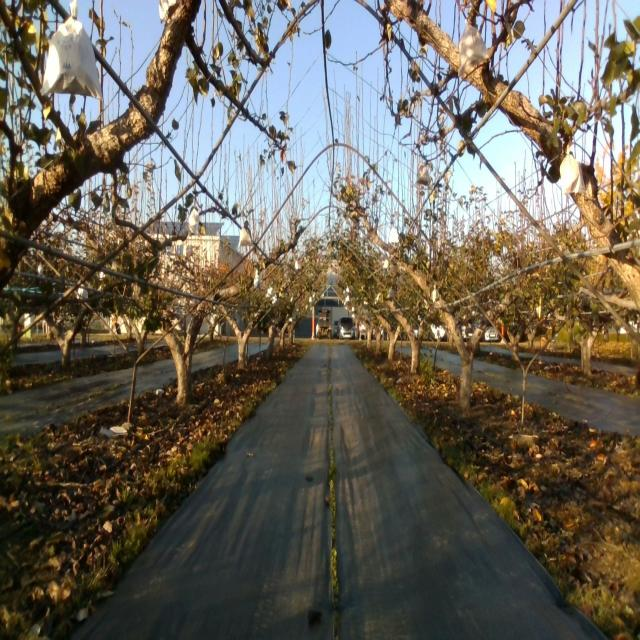pearbags: (39, 0, 104, 102), (457, 21, 488, 83), (560, 142, 590, 195), (188, 207, 200, 237), (238, 224, 252, 248), (416, 161, 429, 186)
